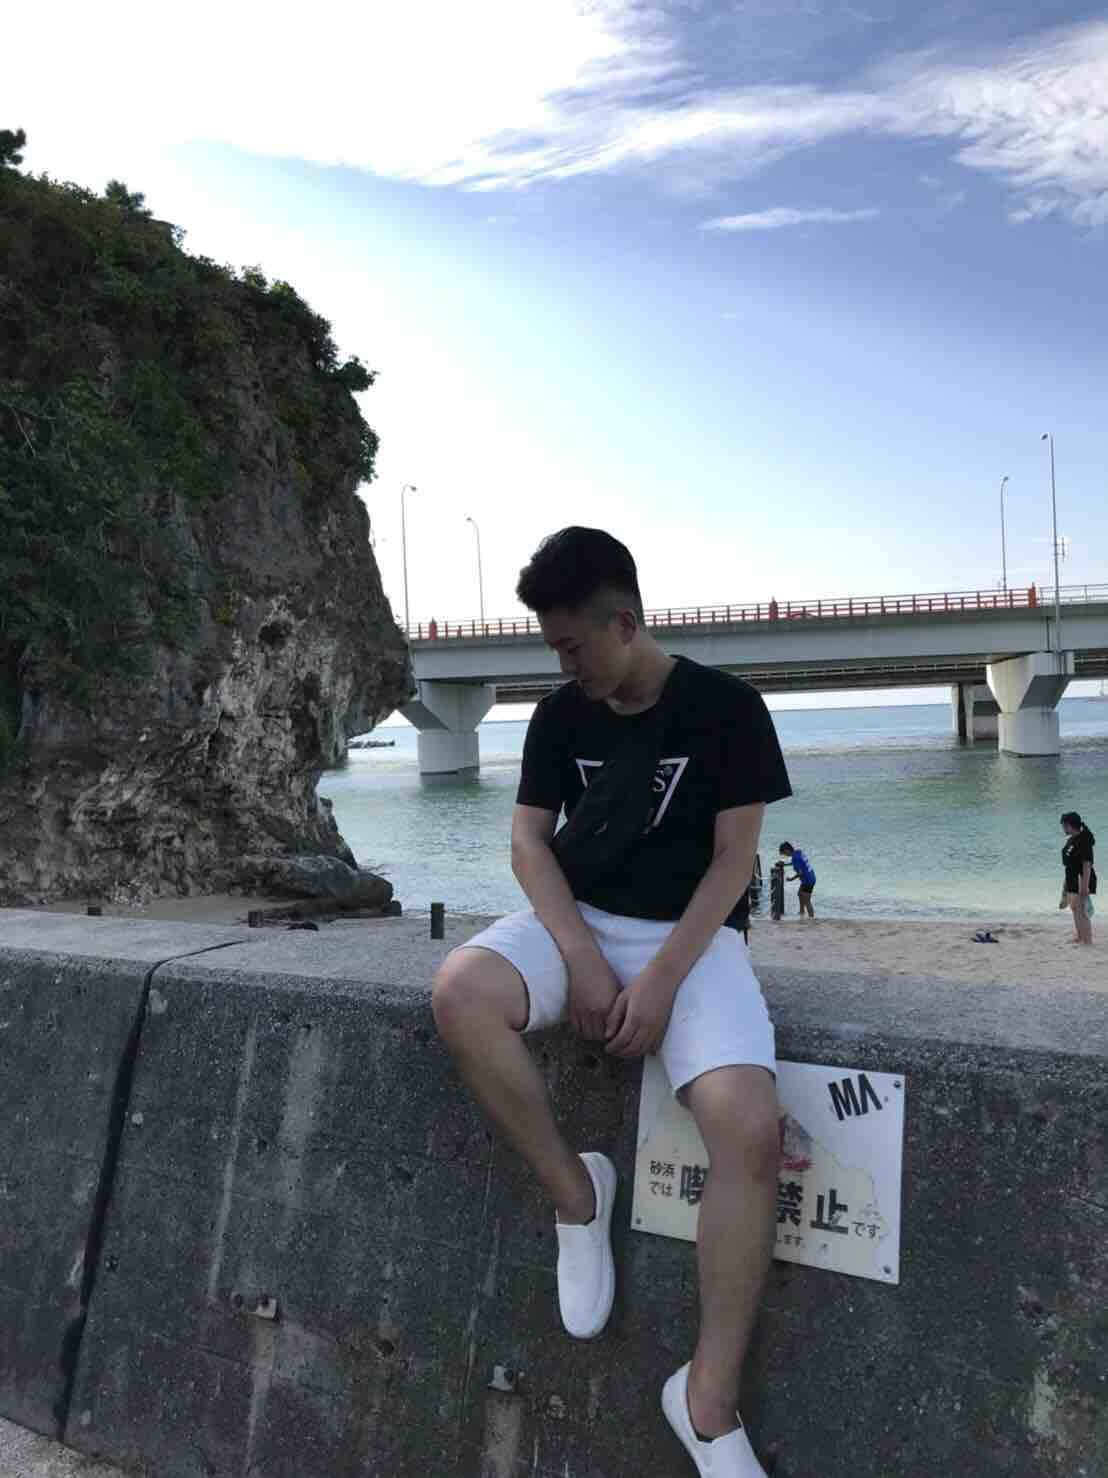people: (436, 523, 776, 1478), (1045, 800, 1105, 943), (778, 828, 836, 914)
